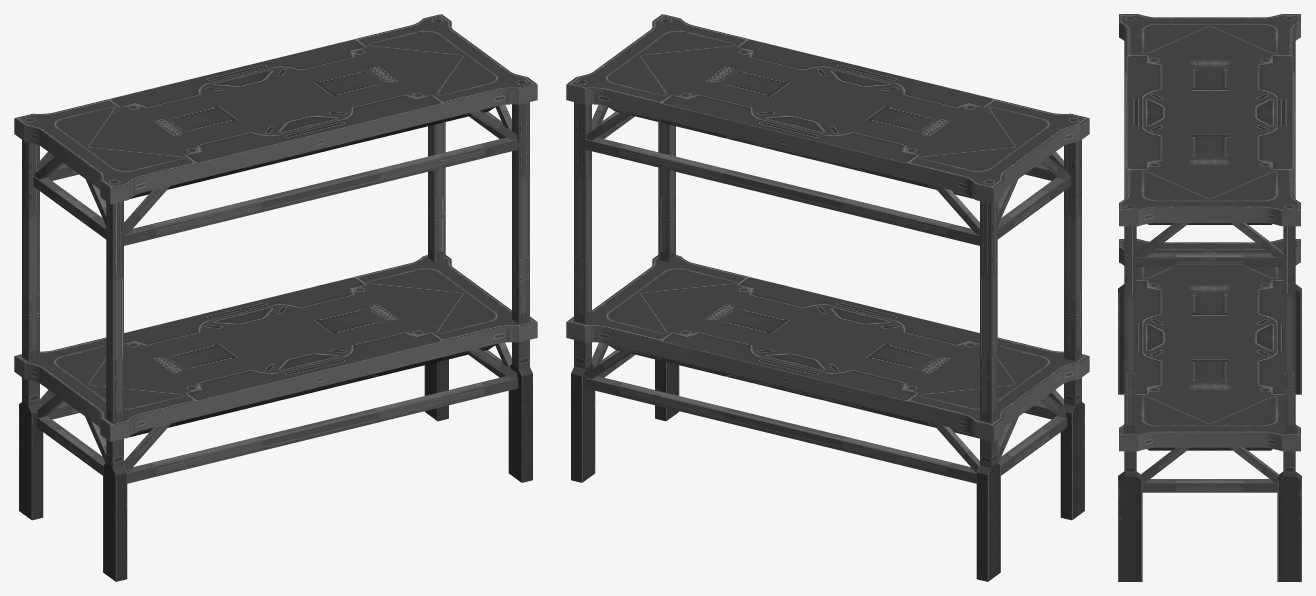
The model's file is Prop_Shelves_ThinShort.gltf.
3 renders of one model, left to right at view 1: azimuth 30°, elevation 25°; view 2: azimuth 150°, elevation 25°; view 3: azimuth 270°, elevation 25°, orthographic. The views are drawn at different scales.
Parts seen in each view (by area): view 1: Prop_Shelves_ThinShort; view 2: Prop_Shelves_ThinShort; view 3: Prop_Shelves_ThinShort.
Part boxes in pixels (x1,y1,x2,y2): Prop_Shelves_ThinShort: (14, 14, 537, 581); Prop_Shelves_ThinShort: (566, 14, 1089, 581); Prop_Shelves_ThinShort: (1118, 14, 1301, 581).
Bounding box in the file's own units: 1.37 × 1.21 × 0.5407.
Materials: 1 (1 with a texture image).
